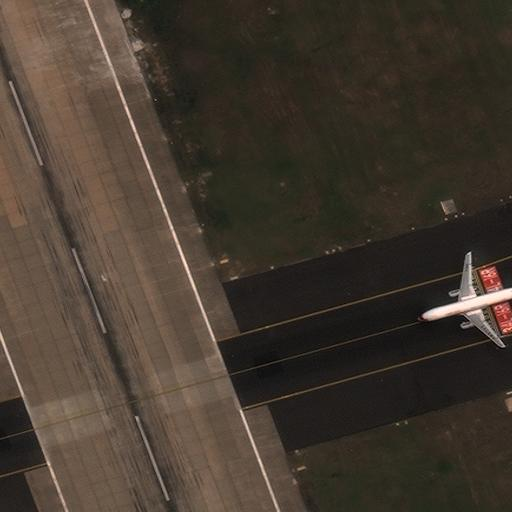Medium Civil Transport: (417, 253, 512, 347)
